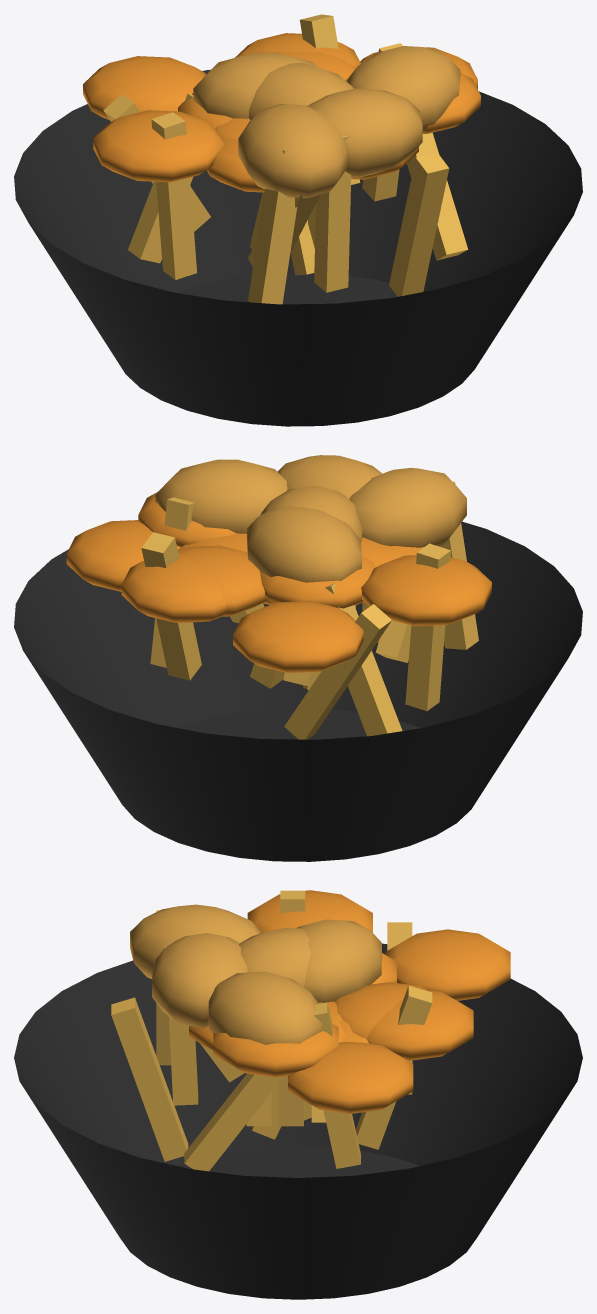
Rendered from bowl-cheddar.glb.
3 renders of one model, top to bottom at view 1: azimuth 30°, elevation 25°; view 2: azimuth 150°, elevation 25°; view 3: azimuth 270°, elevation 25°, orthographic.
Size of the model in its own units: 0.208 by 0.115 by 0.208.
